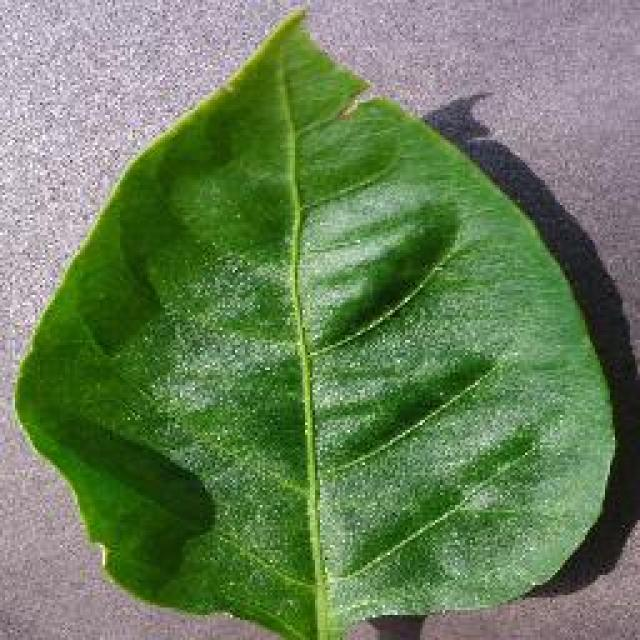Chilli_Healthy: (10, 5, 618, 637)
